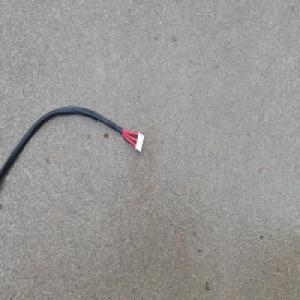Wire: (0, 105, 145, 190)
